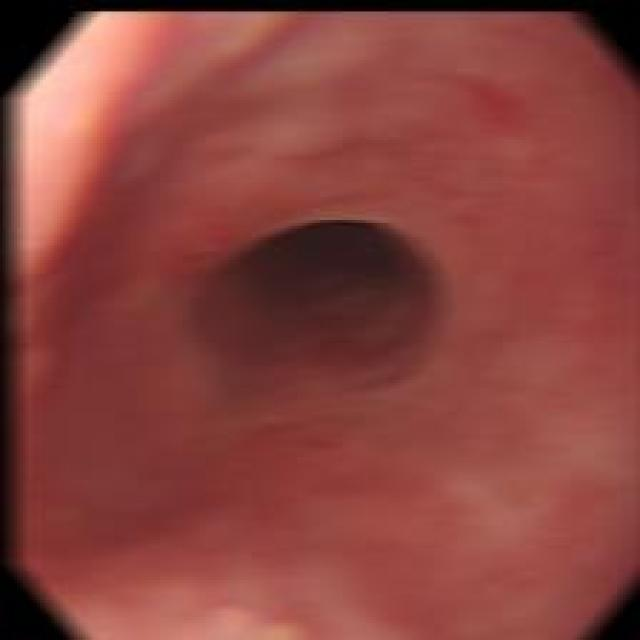blur: (0, 2, 636, 639)
contrast: (249, 221, 422, 382)
